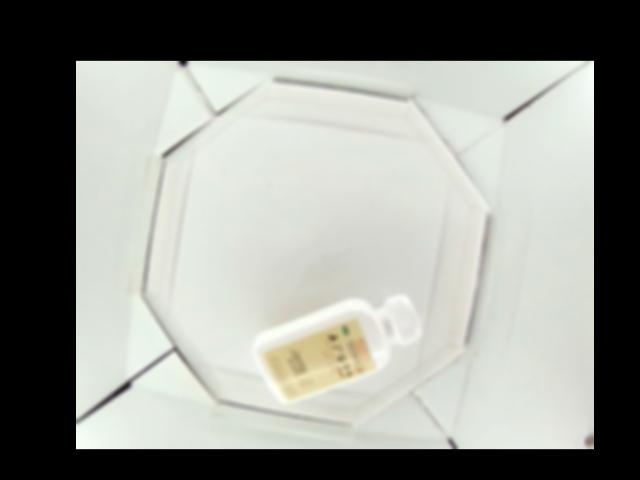Bottle: (250, 293, 422, 401)
